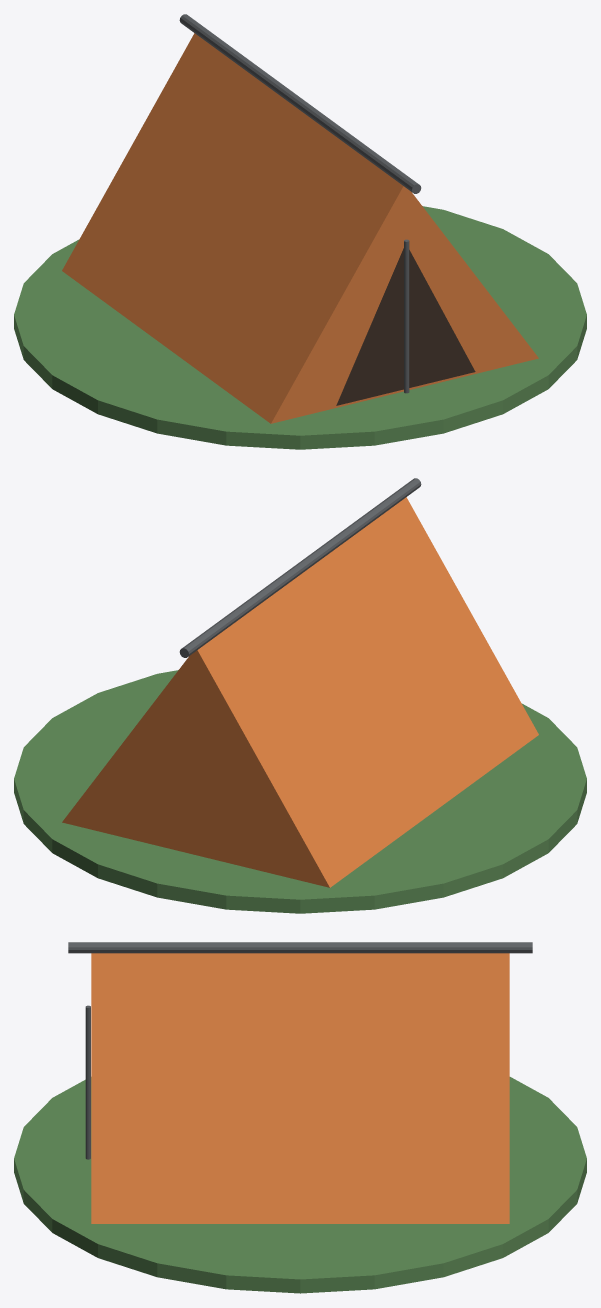
File: a-frame-tent.glb
3 renders of one model, top to bottom at view 1: azimuth 30°, elevation 25°; view 2: azimuth 150°, elevation 25°; view 3: azimuth 270°, elevation 25°, orthographic.
Parts seen in each view (by area): view 1: A-frame tent, Forest floor, Open doorway, Ridge pole, Door seam; view 2: A-frame tent, Forest floor, Ridge pole; view 3: A-frame tent, Forest floor, Ridge pole, Door seam.
Boxes of the visible parts, x1,y1,x2,y2 form: A-frame tent: (62,33,538,423); Forest floor: (14,206,586,449); Open doorway: (336,248,475,405); Ridge pole: (179,14,421,193); Door seam: (404,239,409,393); A-frame tent: (62,497,538,887); Forest floor: (14,670,586,913); Ridge pole: (179,478,421,657); A-frame tent: (91,953,509,1223); Forest floor: (14,1077,586,1293); Ridge pole: (68,942,532,953); Door seam: (85,1005,90,1159).
Bounding box in the file's own units: 3.7 × 1.64 × 3.7.
